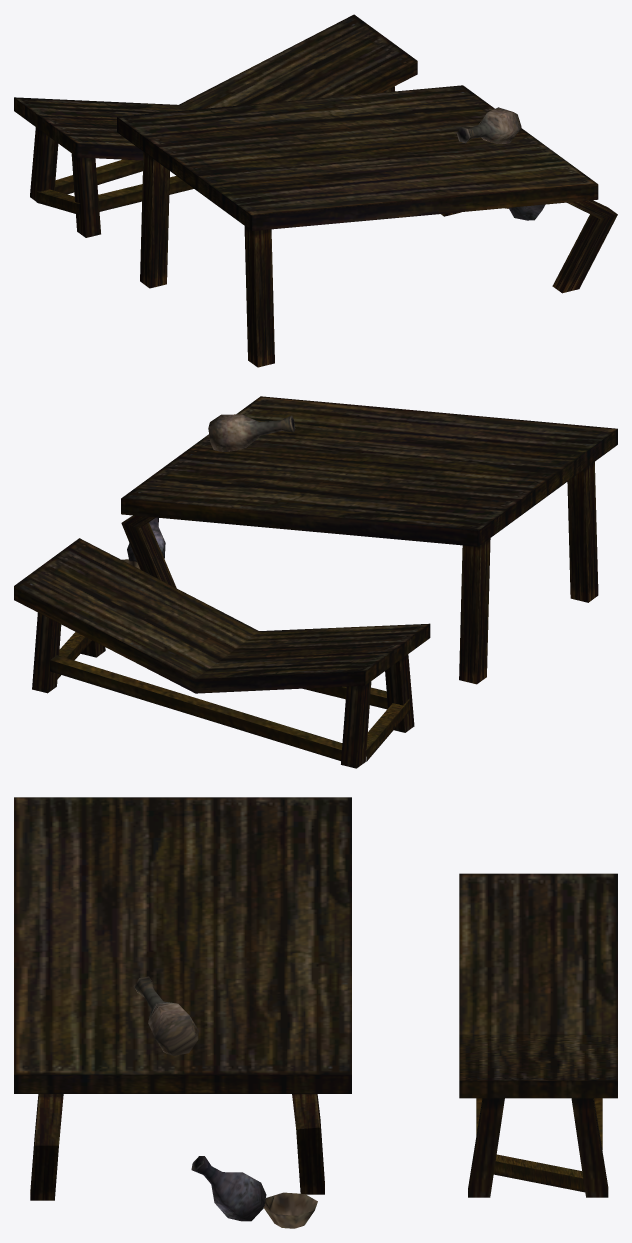
The picture shows the model from 3 angles, top to bottom: view 1: azimuth 30°, elevation 25°; view 2: azimuth 150°, elevation 25°; view 3: azimuth 270°, elevation 25°; orthographic projection. The views are drawn at different scales.
Visible parts, largest first — view 1: Sphere01; view 2: Sphere01; view 3: Sphere01.
Boxes of the visible parts, x1,y1,x2,y2 form: Sphere01: [14, 14, 617, 367]; Sphere01: [14, 396, 617, 768]; Sphere01: [14, 797, 617, 1228].
Bounding box in the file's own units: 2.3 × 0.9087 × 2.48.
Materials: 1 (1 with a texture image).
